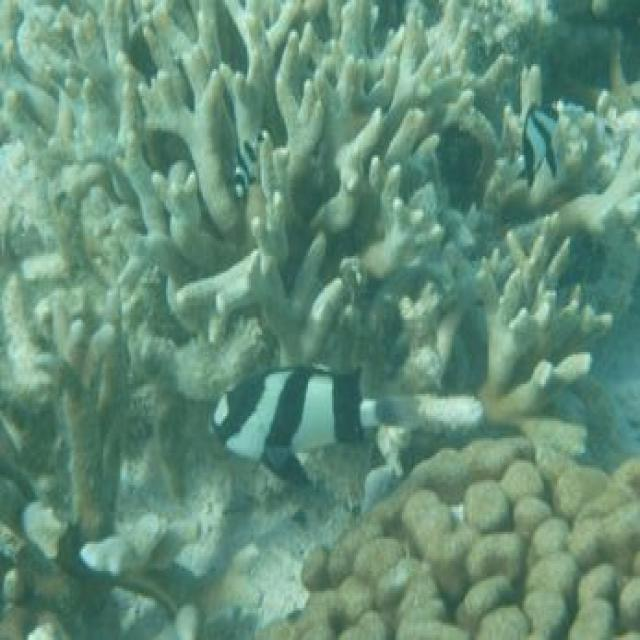Three_striped DasmselFish: (207, 362, 427, 488), (517, 102, 563, 182), (232, 131, 267, 200)
